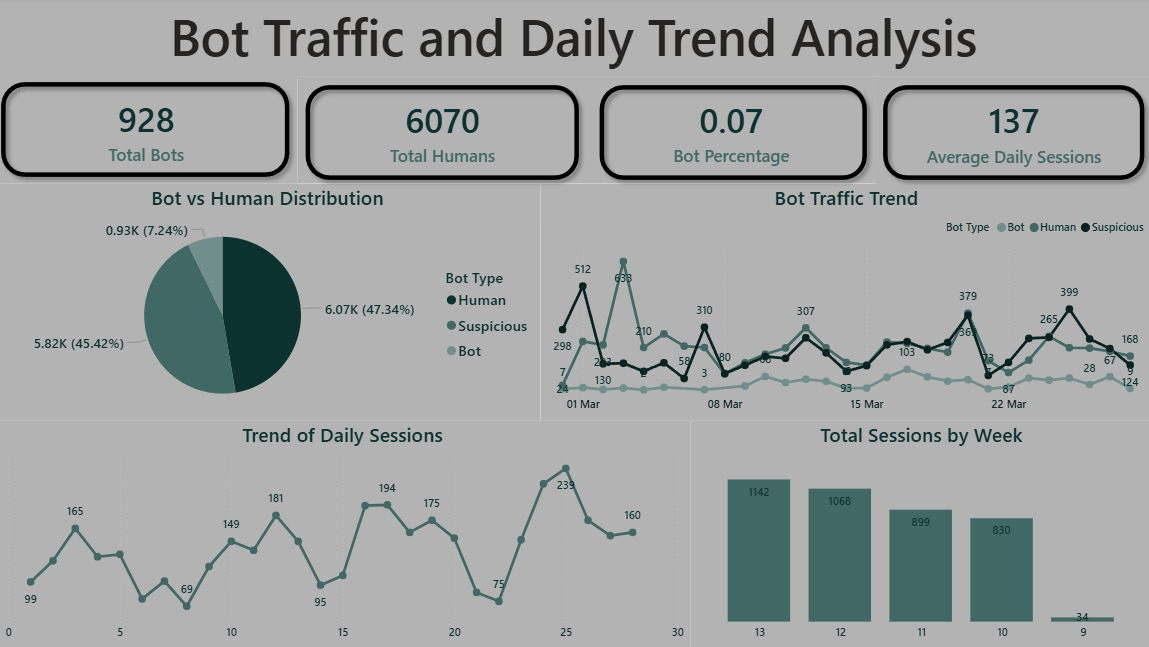

This screenshot's page, from the dashboard's own definition file:
{"tool":"powerbi","page":{"name":"Part 2","canvas":[1280,720],"ordinal":1},"visuals":[{"type":"card","fields":{"Values":["BotSignal.Total Bots"]},"box":[49.7,107.7,268.3,120.9],"z":0},{"type":"card","fields":{"Values":["BotSignal.Total Humans"]},"box":[354.5,107.7,268.3,119.3],"z":1000},{"type":"card","fields":{"Values":["BotSignal.Bot Percentage"]},"box":[656,107.7,268.3,119.3],"z":2000},{"type":"pieChart","title":"Bot vs Human Distribution","fields":{"Category":["BotSignal.Bot Type"],"Y":["CountNonNull(BotSignal.id)"]},"box":[16.6,248.5,576.5,220.3],"z":3000},{"type":"lineChart","title":"Bot Traffic Trend","fields":{"Series":["BotSignal.Bot Type"],"Y":["CountNonNull(BotSignal.id)"],"Category":["Date Table.Date.Variation.Date Hierarchy.Year","Date Table.Date.Variation.Date Hierarchy.Quarter","Date Table.Date.Variation.Date Hierarchy.Month","Date Table.Date.Variation.Date Hierarchy.Day"]},"box":[622.8,248.5,637.7,220.3],"z":4000},{"type":"lineChart","title":"Trend of Daily Sessions","fields":{"Y":["CountNonNull(Session.id)"],"Category":["Date Table.Day"]},"box":[16.6,490.3,697.4,215.3],"z":5000},{"type":"textbox","box":[16.6,11.6,1244,84.5],"z":6000},{"type":"clusteredColumnChart","title":"Total Sessions by Week","fields":{"Y":["Session.Total Sessions"],"Category":["Date Table.Week Label"]},"box":[742.1,490.3,518.5,215.3],"z":7000},{"type":"card","fields":{"Values":["Session.Average Daily Sessions"]},"box":[959.1,109.3,268.3,119.3],"z":8000},{"type":"image","box":[16.2,12.2,105.3,85.1],"z":9000}]}

Visuals, with their boxes in screenshot pixels (x1, y1, x2, y2), scaled from the page's 1280x720 canvas onto the 1149x647 screenshot:
card - BotSignal.Total Bots: [left=45, top=97, right=285, bottom=205]
card - BotSignal.Total Humans: [left=318, top=97, right=559, bottom=204]
card - BotSignal.Bot Percentage: [left=589, top=97, right=830, bottom=204]
"Bot vs Human Distribution" pieChart: [left=15, top=223, right=532, bottom=421]
"Bot Traffic Trend" lineChart: [left=559, top=223, right=1131, bottom=421]
"Trend of Daily Sessions" lineChart: [left=15, top=441, right=641, bottom=634]
textbox: [left=15, top=10, right=1132, bottom=86]
"Total Sessions by Week" clusteredColumnChart: [left=666, top=441, right=1132, bottom=634]
card - Session.Average Daily Sessions: [left=861, top=98, right=1102, bottom=205]
image: [left=15, top=11, right=109, bottom=87]
